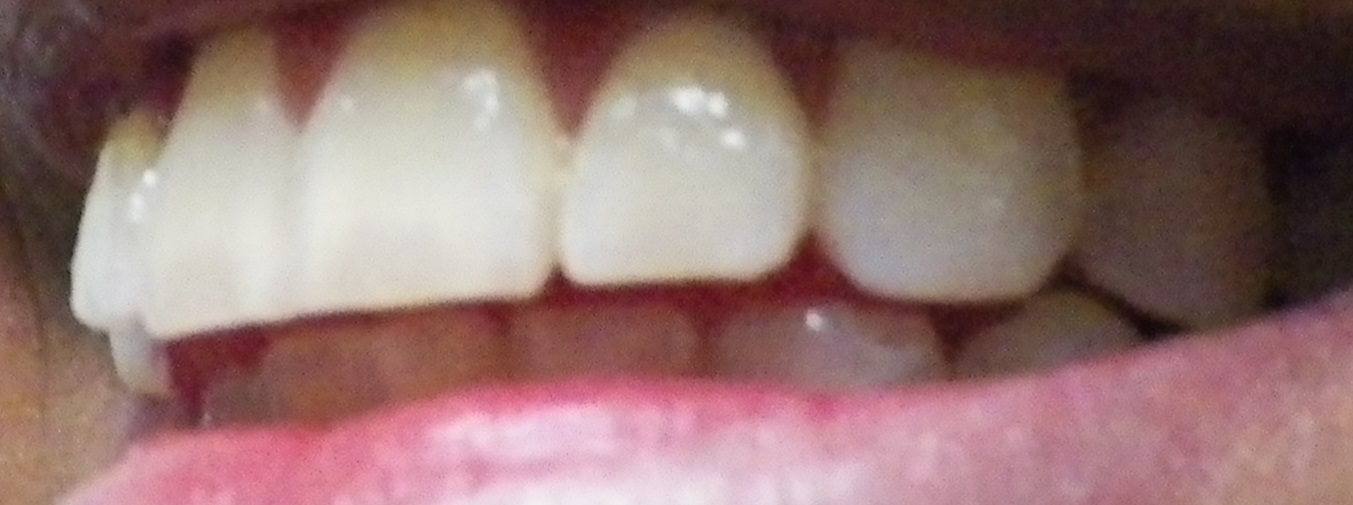boca: (76, 17, 1278, 417)
